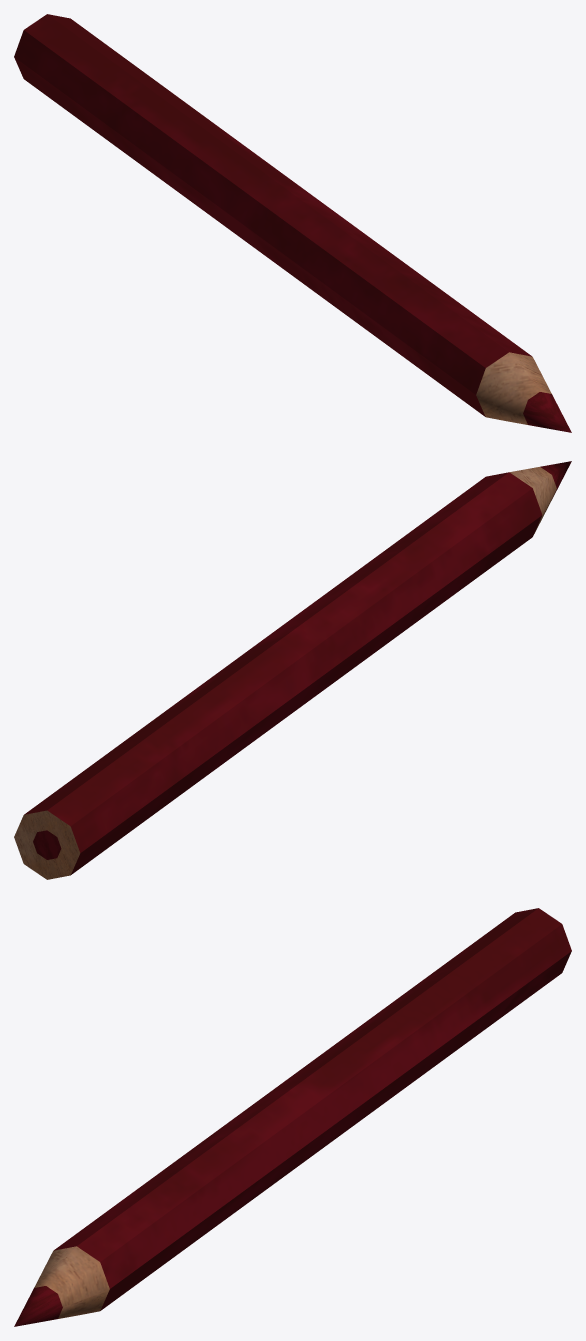
Rendered from Pencil_red.fbx.
The picture shows the model from 3 angles, top to bottom: view 1: azimuth 30°, elevation 25°; view 2: azimuth 150°, elevation 25°; view 3: azimuth 330°, elevation 25°; orthographic projection.
Visible parts, largest first — view 1: Pencil.001; view 2: Pencil.001; view 3: Pencil.001.
Boxes of the visible parts, x1,y1,x2,y2 form: Pencil.001: (14,14,571,432); Pencil.001: (14,461,571,879); Pencil.001: (14,908,571,1326).
Bounding box in the file's own units: 14.61 × 14.61 × 200.
